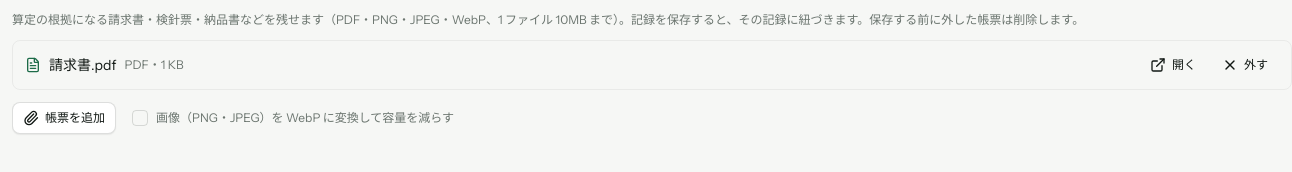
Scenario: EvidenceField › 外す › 新規: 最初から入れてあった帳票（請求書の読取りなど）は、外しても削除しない
Step 1. Click the button "外す" → (1245, 65), box [1211,49,1279,81]
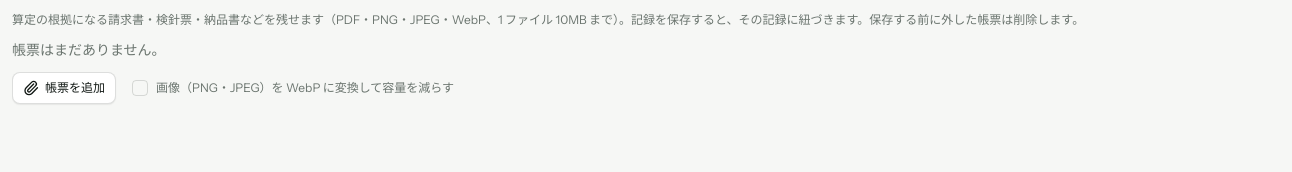
Check: the text "帳票はまだありません。" is shown, box [12,41,166,59]
